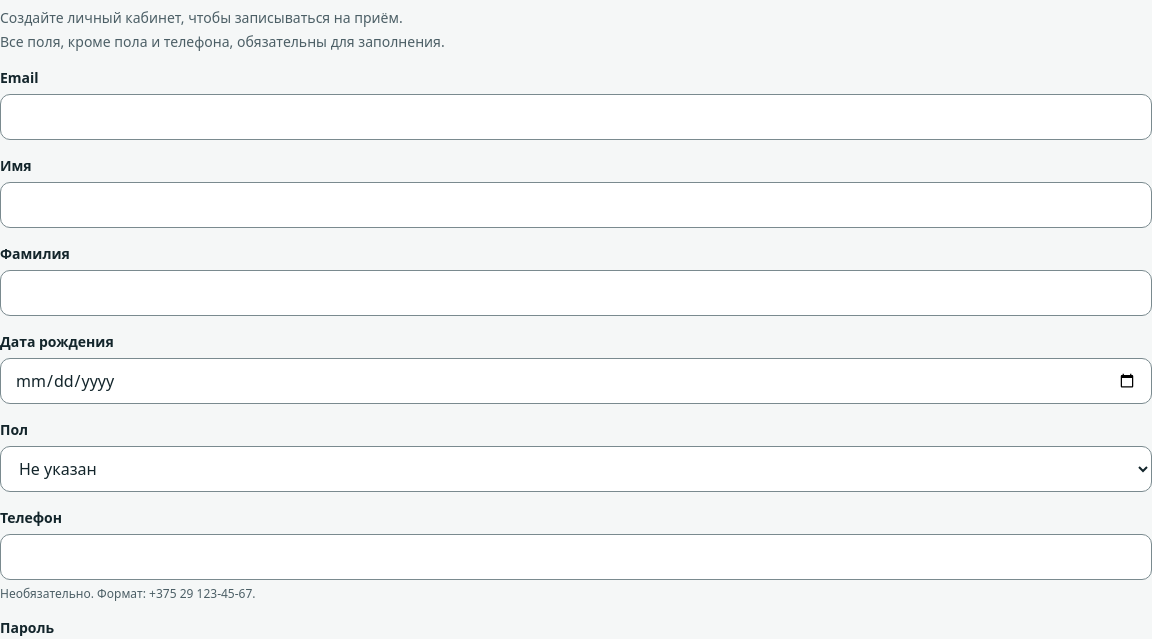
Test case: RegisterForm › should show a banner when the server names a field the form does not have
This screenshot has width=1152, height=639.
Type " ivan@example.by " into the field labelled "Email".
click(576, 117); type(" ivan@example.by ")  # box x1=0 y1=94 x2=1151 y2=140
Type "Иван" into the field labelled "Имя".
click(576, 205); type("Иван")  # box x1=0 y1=182 x2=1151 y2=228
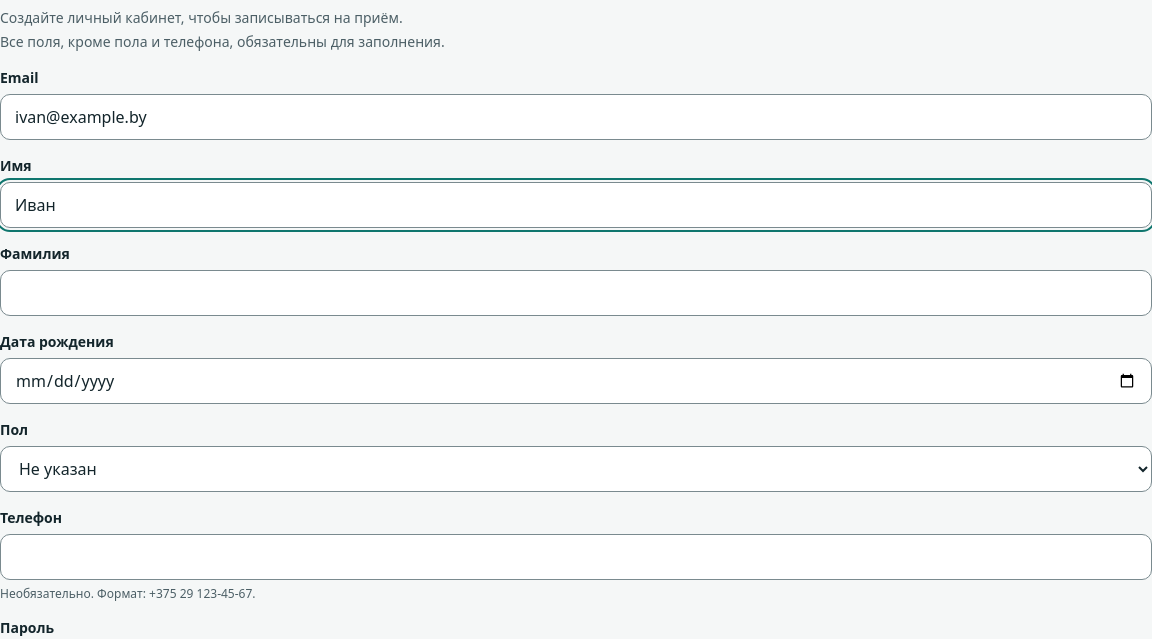
Type "Иванов" into the field labelled "Фамилия".
click(576, 293); type("Иванов")  # box x1=0 y1=270 x2=1151 y2=316
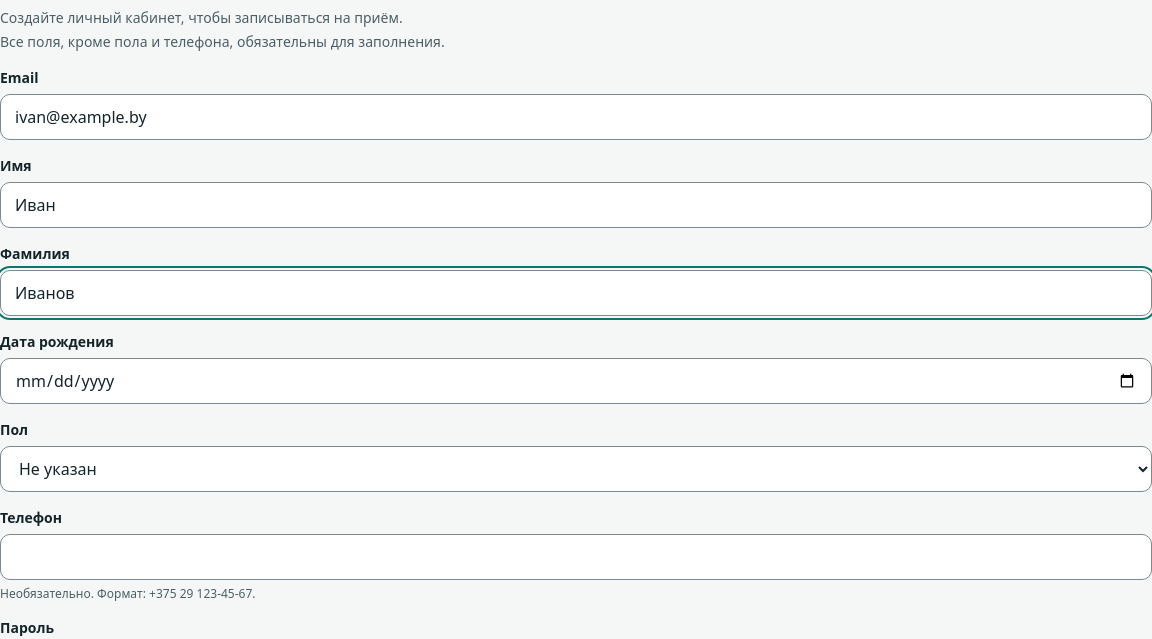
Type "1990-05-12" into the date field labelled "Дата рождения".
click(576, 381); type("1990-05-12")  # box x1=0 y1=358 x2=1151 y2=404
(page scrolled)
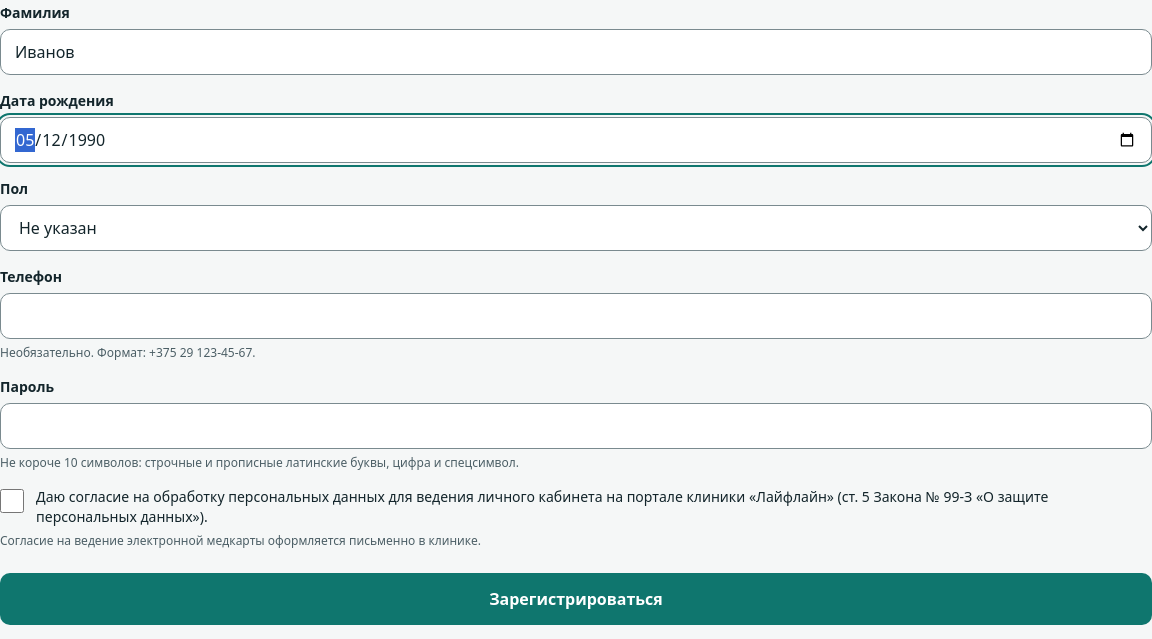
Type "Str0ng!Pass" into the password field labelled "Пароль".
click(576, 426); type("Str0ng!Pass")  # box x1=0 y1=403 x2=1151 y2=449
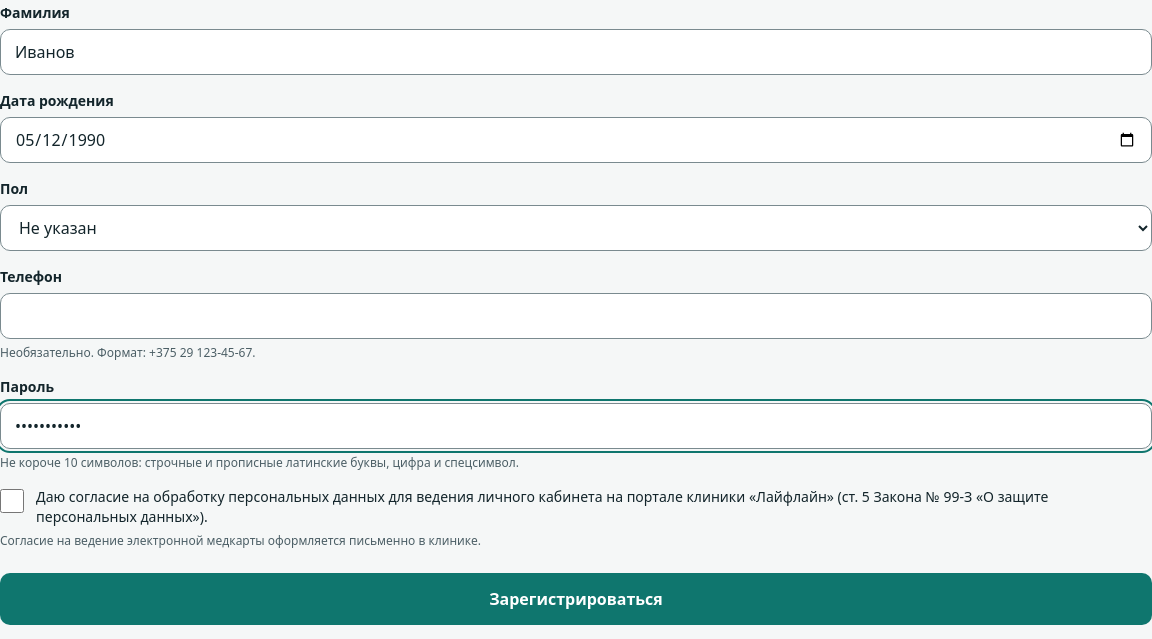
Click the checkbox labelled "согласие на обработку персональных данных".
click(12, 501)  # box x1=0 y1=489 x2=24 y2=513
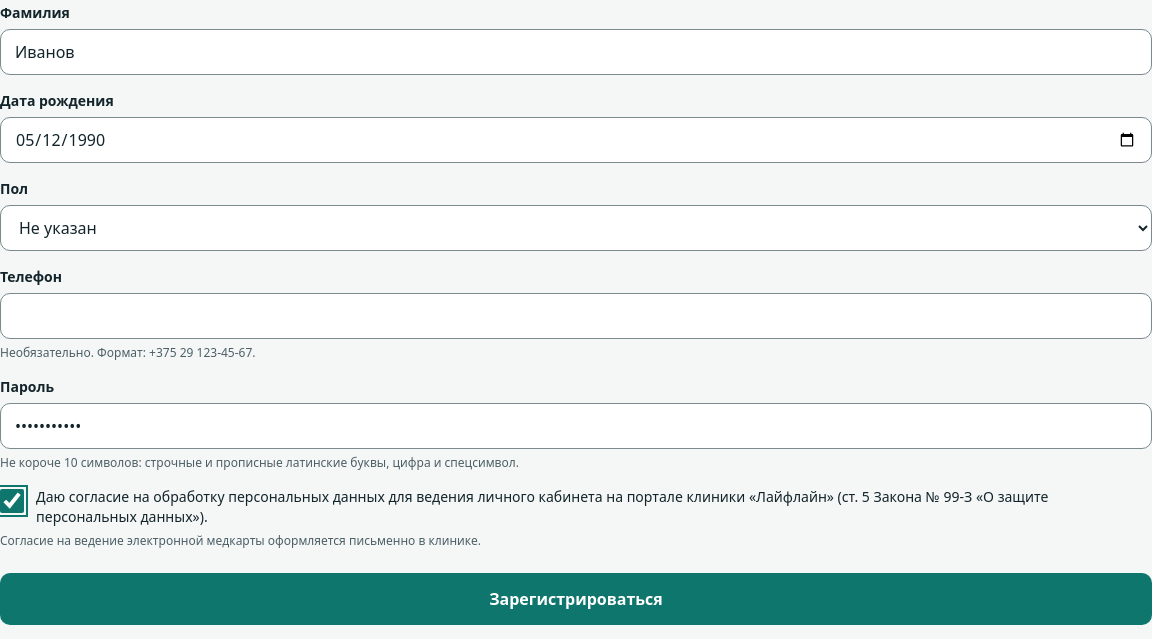
Click the button "Зарегистрироваться".
click(576, 599)  # box x1=0 y1=573 x2=1151 y2=625
(page scrolled)
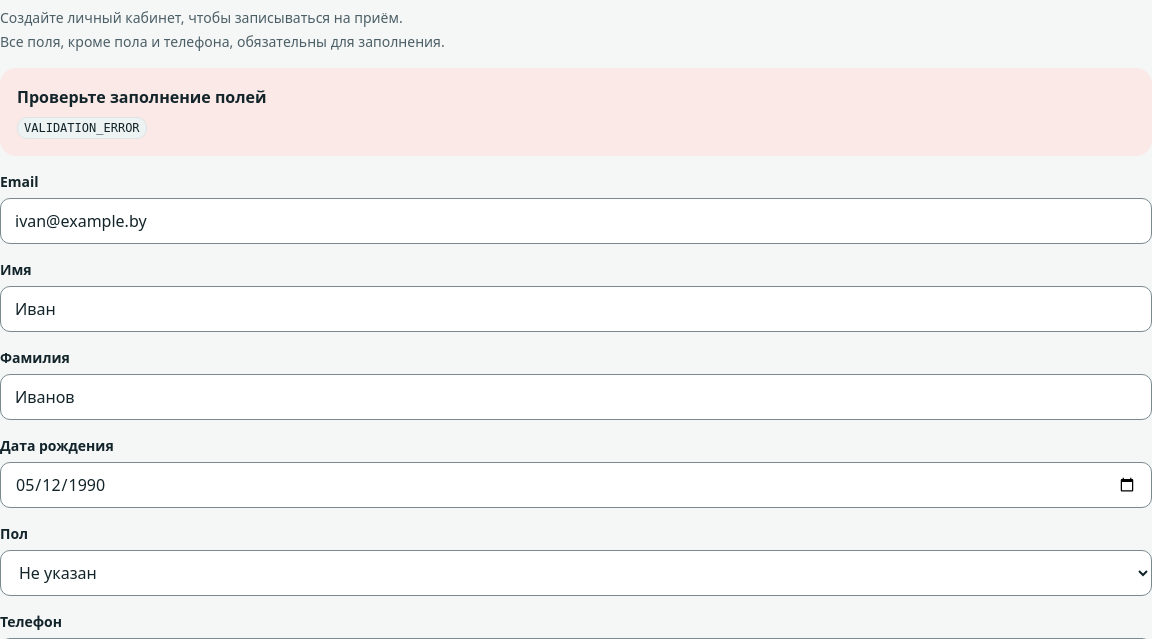
Expected: the message "Проверьте заполнение полей VALIDATION_ERROR" is shown, x1=0 y1=68 x2=1151 y2=156
